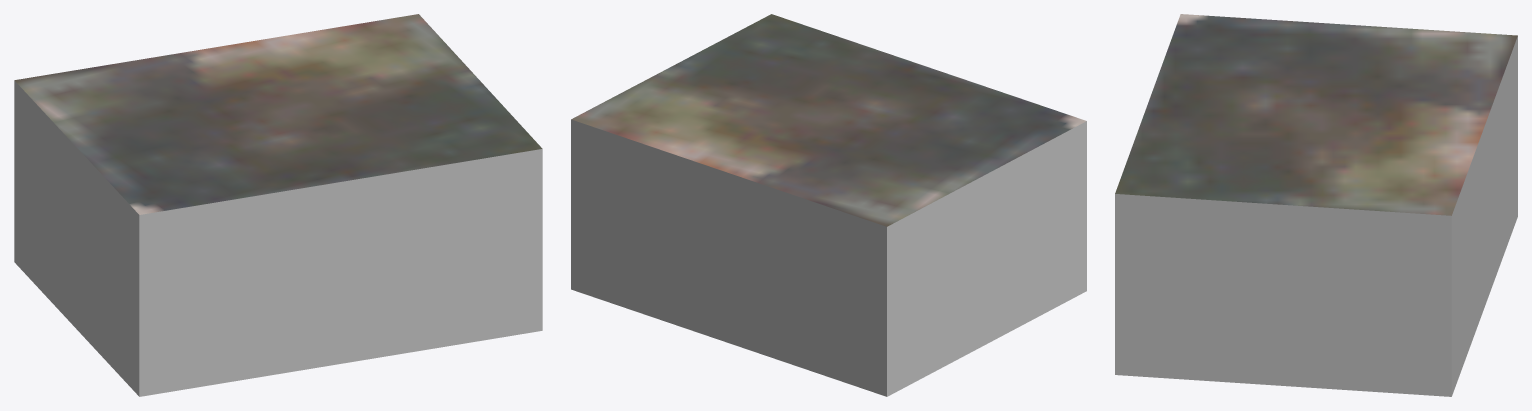
The model's file is DEBW_0010007TxbZ.gltf.
3 views of the same model, side by side, from view 1: azimuth 30°, elevation 25°; view 2: azimuth 150°, elevation 25°; view 3: azimuth 270°, elevation 25° (orthographic). The views are drawn at different scales.
Visible parts, largest first — view 1: Z_UP; view 2: Z_UP; view 3: Z_UP.
Boxes of the visible parts, left/top/right/bottom form: Z_UP: left=14, top=14, right=542, bottom=396; Z_UP: left=571, top=14, right=1086, bottom=396; Z_UP: left=1115, top=14, right=1517, bottom=396.
Bounding box in the file's own units: 8.44 × 3.53 × 7.12.
Materials: 2 (1 with a texture image).
